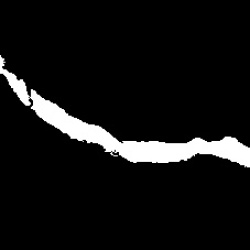crack: (1, 55, 248, 173)
